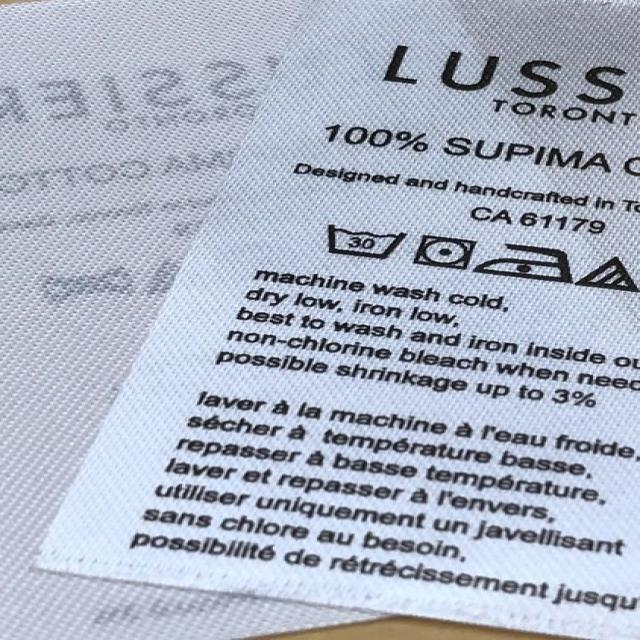30C: (321, 217, 411, 263)
iron_low: (479, 236, 578, 281)
non_chlorine_bleach: (579, 252, 638, 293)
tumble_dry_low: (415, 228, 479, 273)
